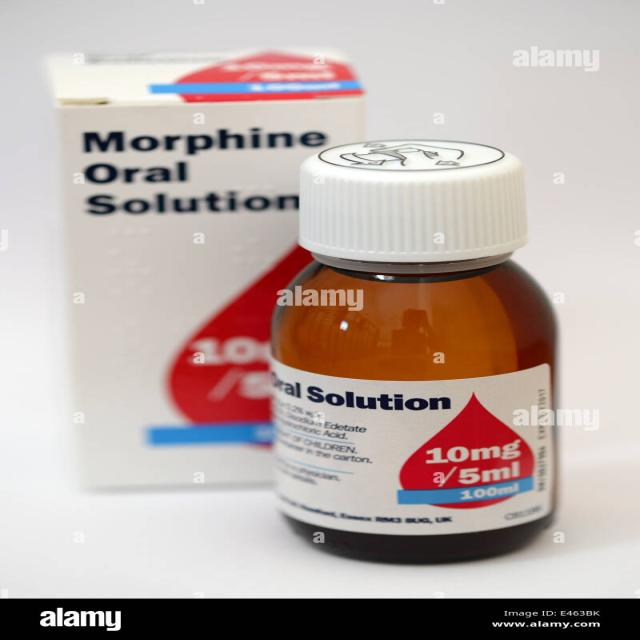B3: (244, 128, 598, 580)
